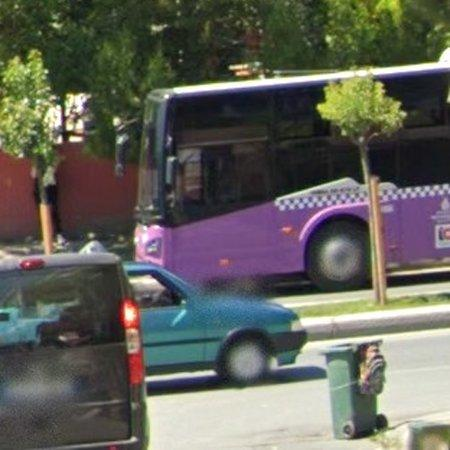buses: (371, 63, 450, 266)
